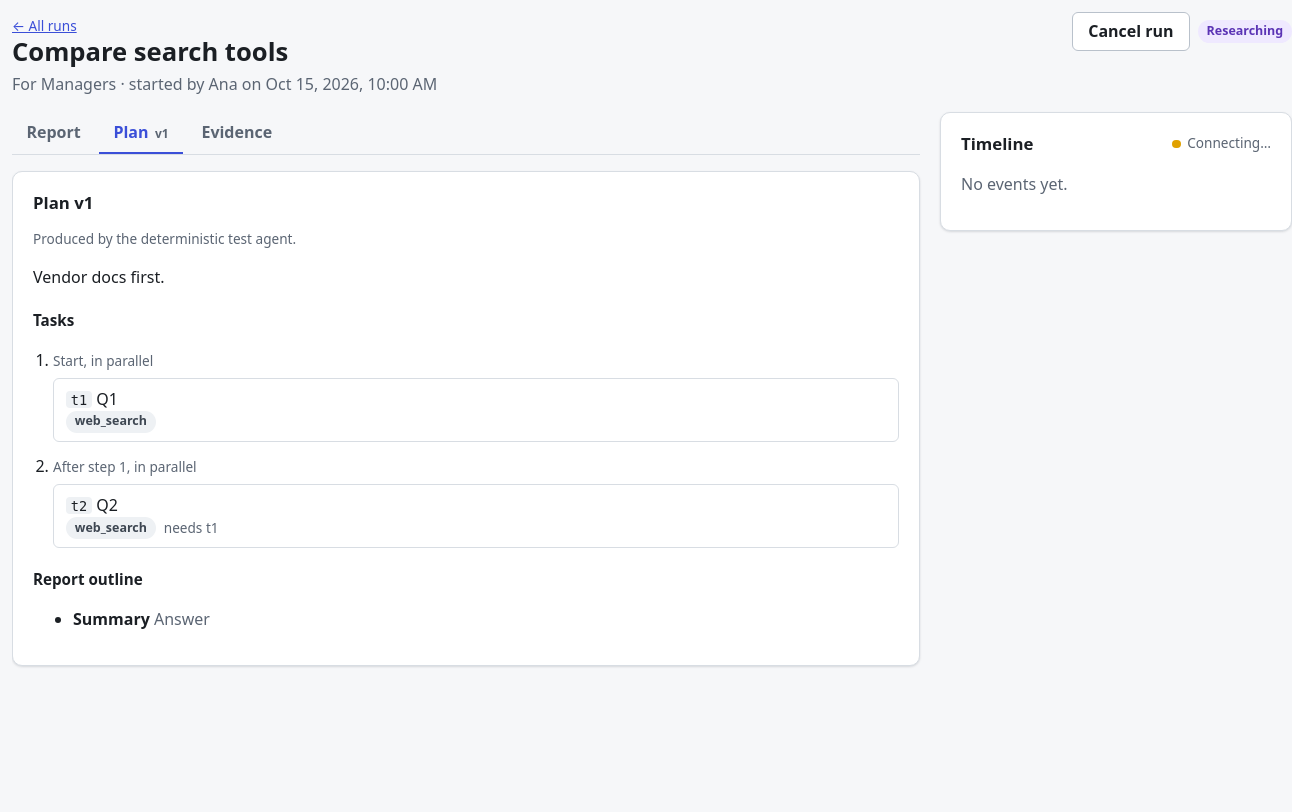
Scenario: RunPage › asks for confirmation before cancelling and shows the stopping state
This screenshot has width=1292, height=812.
Click the button "Cancel run".
click(1131, 31)  # box [1072,12,1190,51]
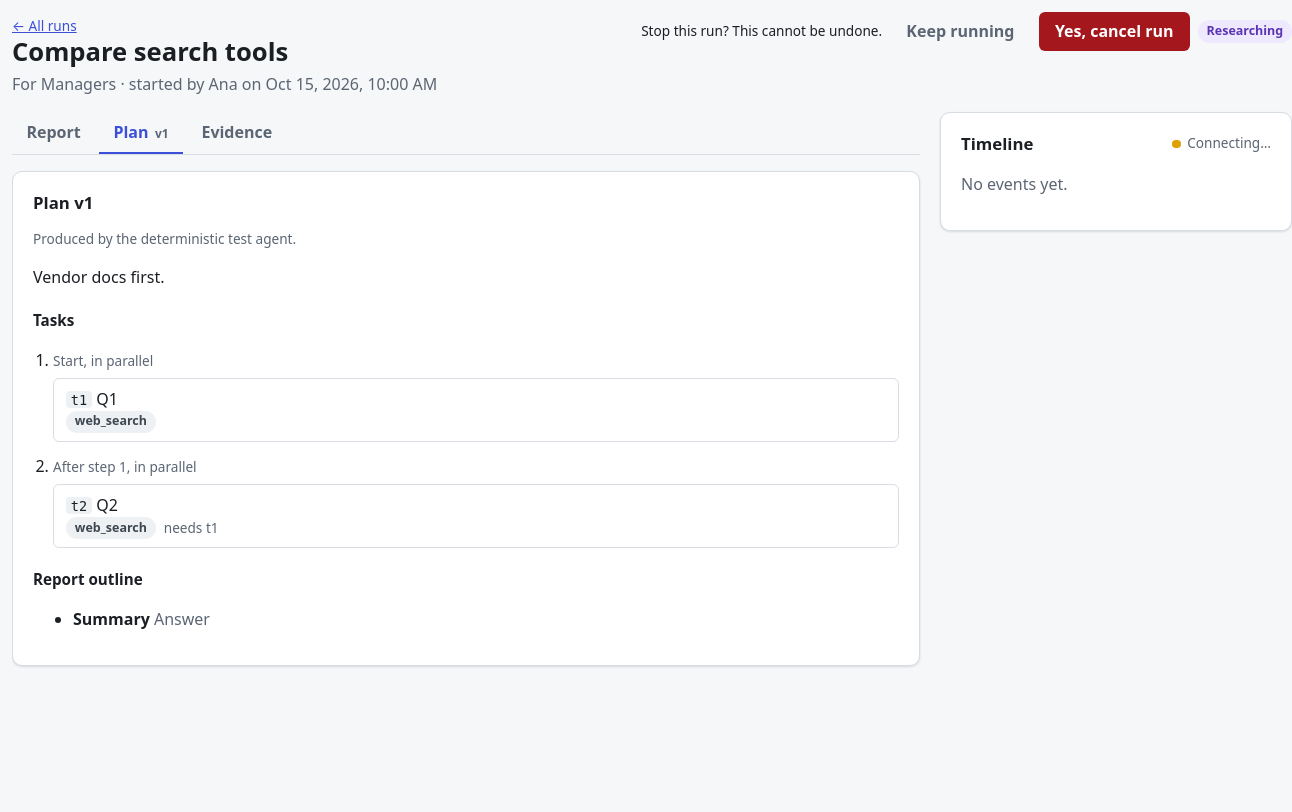
Click the button "Yes, cancel run".
click(1114, 31)  # box [1039,12,1190,51]
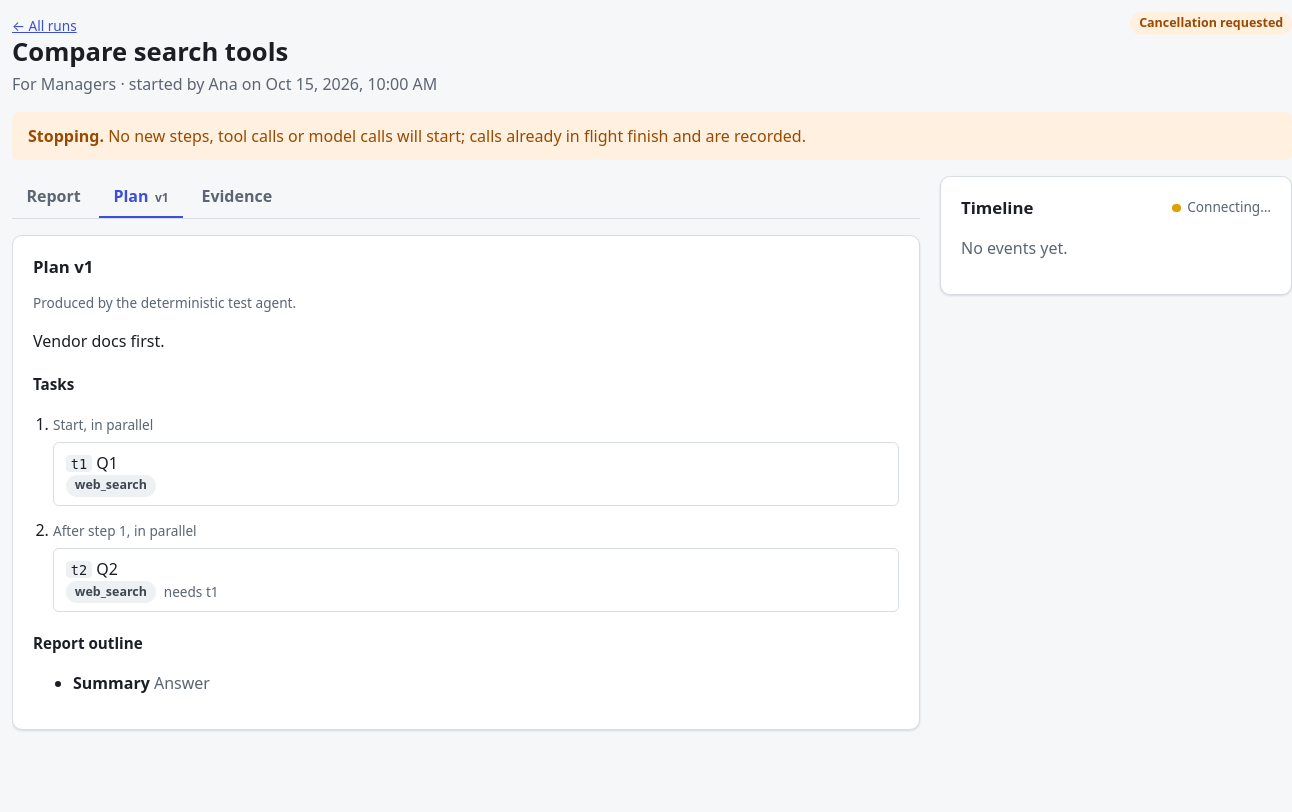
Expected: the text "No new steps, tool calls or model calls will start" is shown, [104,125,806,147]
Expected: the button "cancel run" is gone
